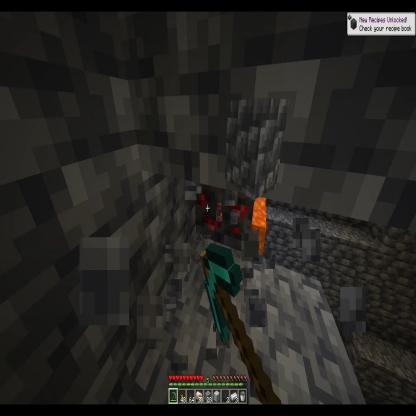redstone ore: (189, 185, 253, 253)
